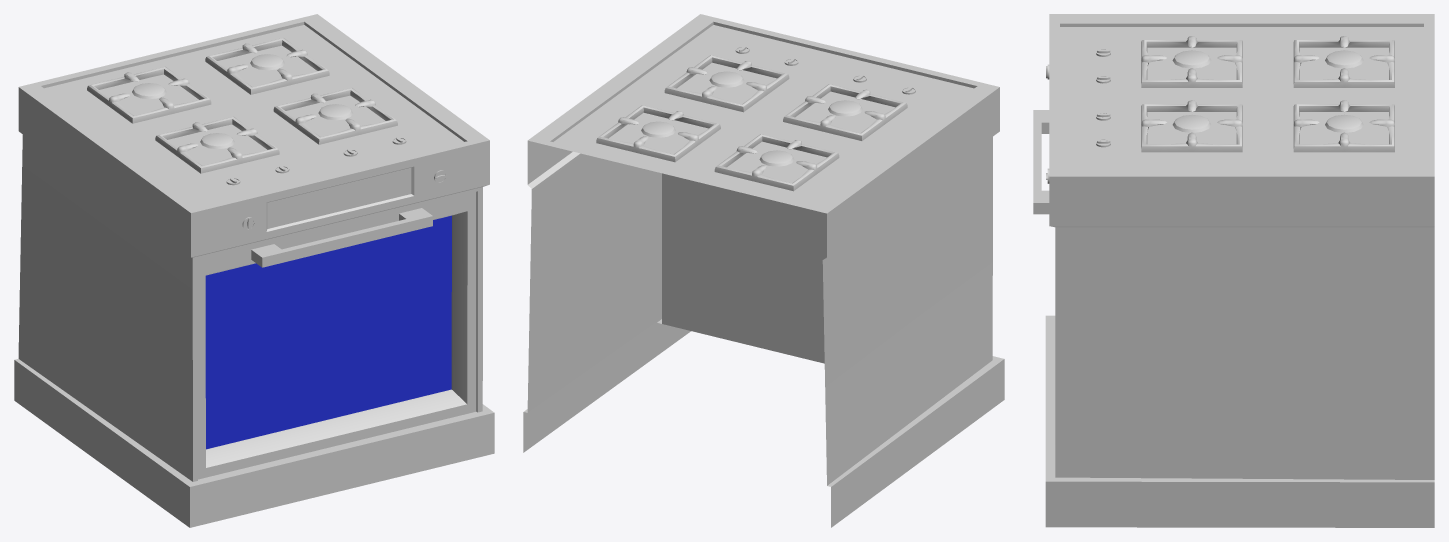
Rendered from SM_Stove.fbx.
3 views of the same model, side by side, from view 1: azimuth 30°, elevation 25°; view 2: azimuth 150°, elevation 25°; view 3: azimuth 270°, elevation 25° (orthographic). The views are drawn at different scales.
Parts seen in each view (by area): view 1: SM_Oven; view 2: SM_Oven; view 3: SM_Oven.
Boxes of the visible parts, x1=… form: SM_Oven: x1=14, y1=14, x2=494, y2=527; SM_Oven: x1=523, y1=14, x2=1004, y2=527; SM_Oven: x1=1033, y1=14, x2=1434, y2=527.
Size of the model in its own units: 83.32 by 82.19 by 81.62.
